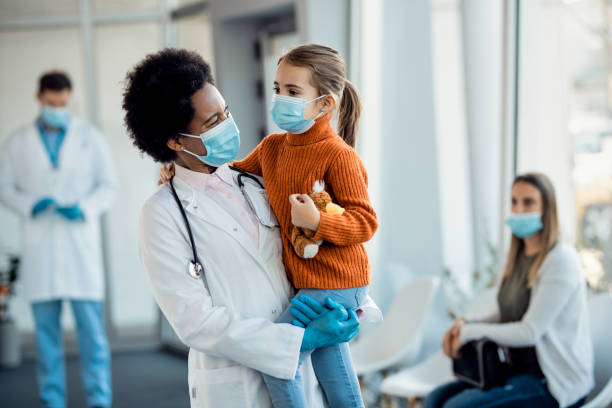with mask: (121, 53, 240, 173), (261, 51, 330, 135), (507, 174, 544, 237), (36, 70, 73, 128)
